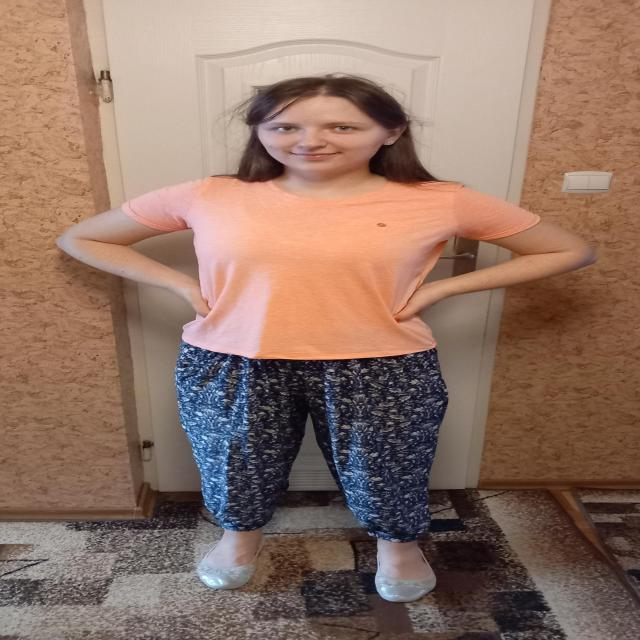Tshirt: (122, 176, 540, 360)
pants: (174, 342, 450, 543)
